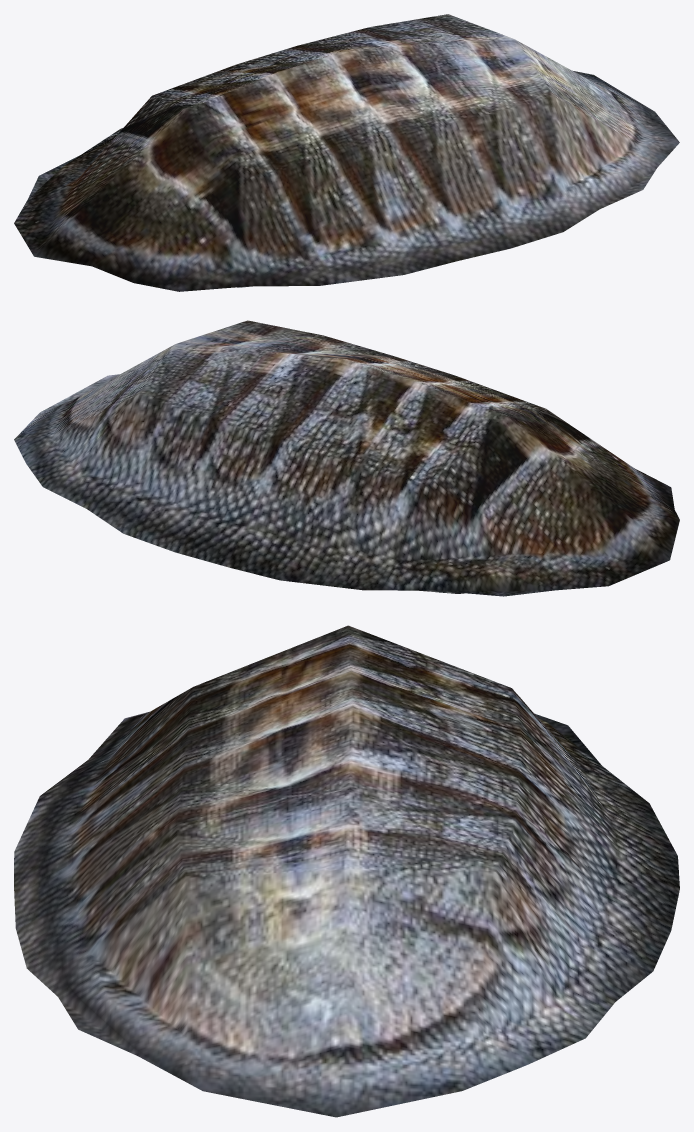
File: chiton.glb
3 renders of one model, top to bottom at view 1: azimuth 30°, elevation 25°; view 2: azimuth 150°, elevation 25°; view 3: azimuth 270°, elevation 25°, orthographic. The views are drawn at different scales.
Visible parts, largest first — view 1: Torus; view 2: Torus; view 3: Torus.
Boxes of the visible parts, <box> form: Torus: <box>14,14,679,291</box>; Torus: <box>14,320,679,596</box>; Torus: <box>14,625,679,1117</box>.
Bounding box in the file's own units: 4.49 × 1.15 × 2.87.
Materials: 1 (1 with a texture image).
